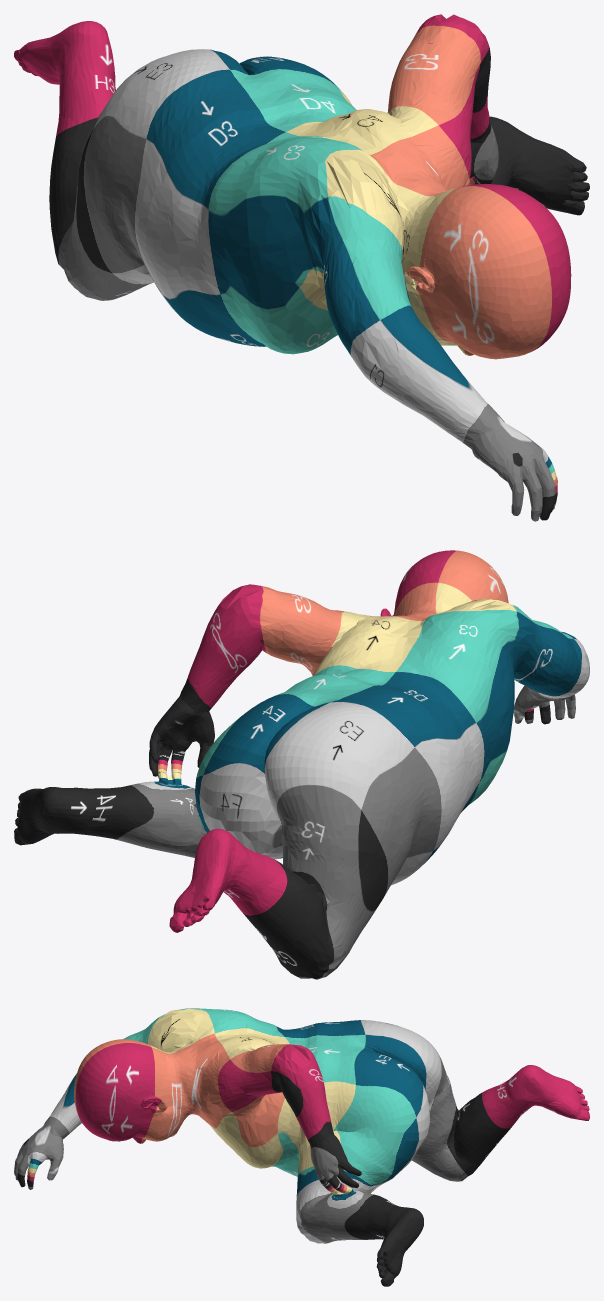
The model's file is kid00-kid16.obj.
3 renders of one model, top to bottom at view 1: azimuth 30°, elevation 25°; view 2: azimuth 150°, elevation 25°; view 3: azimuth 270°, elevation 25°, orthographic. The views are drawn at different scales.
Visible parts, largest first — view 1: kid00-kid16_export; view 2: kid00-kid16_export; view 3: kid00-kid16_export.
Part boxes in pixels (bbox=[...]): kid00-kid16_export: bbox=[14, 14, 589, 521]; kid00-kid16_export: bbox=[14, 550, 589, 979]; kid00-kid16_export: bbox=[14, 1008, 589, 1286].
Size of the model in its own units: 0.6178 by 0.3933 by 1.07.
Materials: 1 (1 with a texture image).
